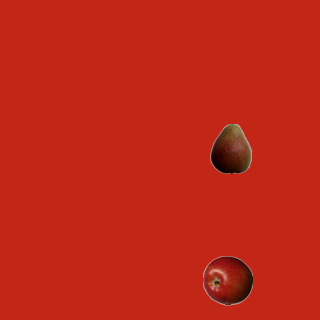Apple Braeburn: (202, 255, 252, 305)
Pear Forelle: (205, 123, 255, 173)
